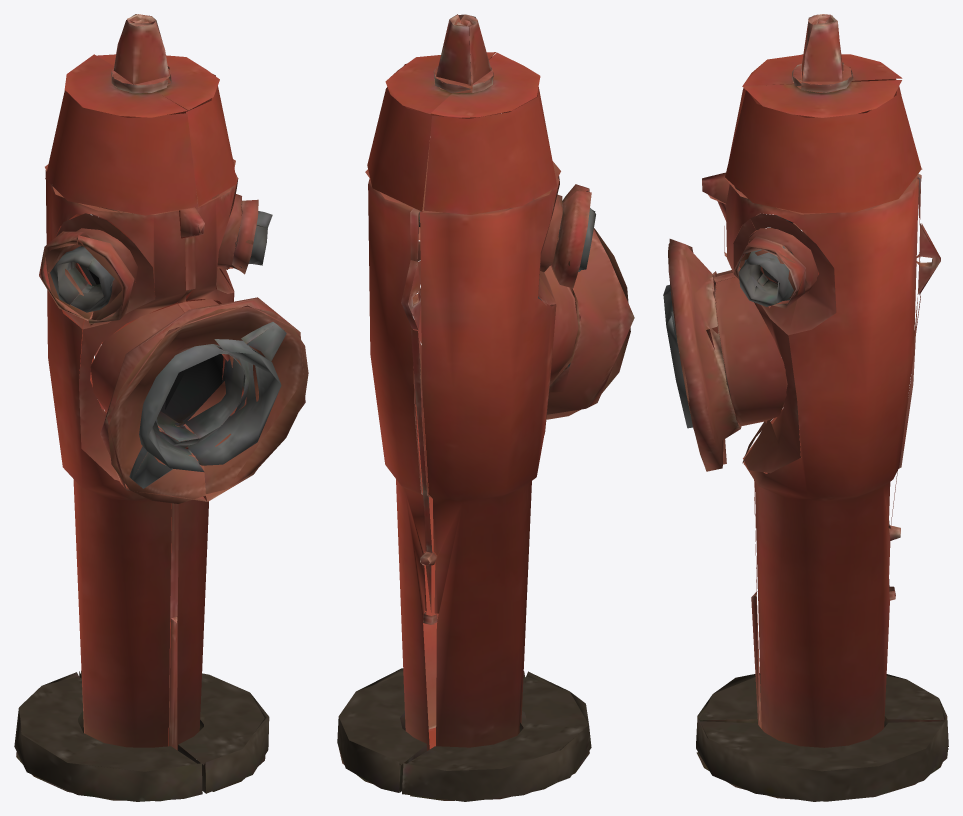
The model's file is fire-hydrant.glb.
3 renders of one model, left to right at view 1: azimuth 30°, elevation 25°; view 2: azimuth 150°, elevation 25°; view 3: azimuth 270°, elevation 25°, orthographic.
Parts seen in each view (by area): view 1: fire_hydrant; view 2: fire_hydrant; view 3: fire_hydrant.
Part boxes in pixels (x1=…): fire_hydrant: x1=14, y1=14, x2=308, y2=801; fire_hydrant: x1=337, y1=14, x2=634, y2=801; fire_hydrant: x1=663, y1=14, x2=948, y2=801.
Size of the model in its own units: 0.254 by 0.8 by 0.2844.
1 material, 1 textured.
